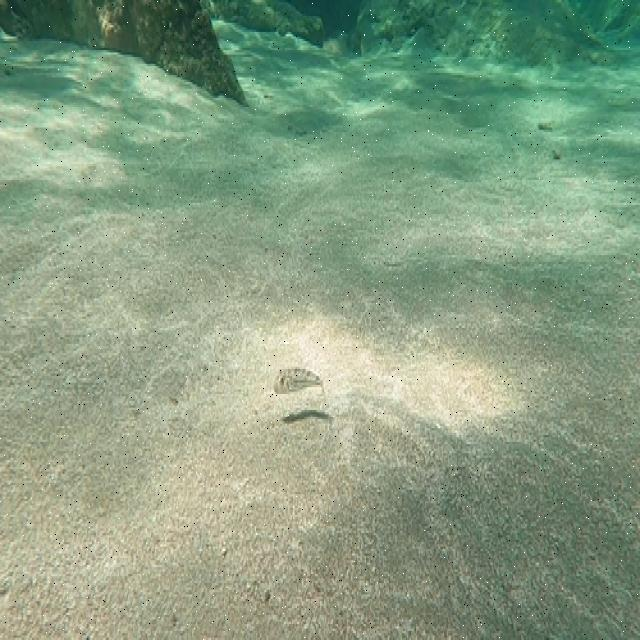Balik: (274, 367, 323, 394)
